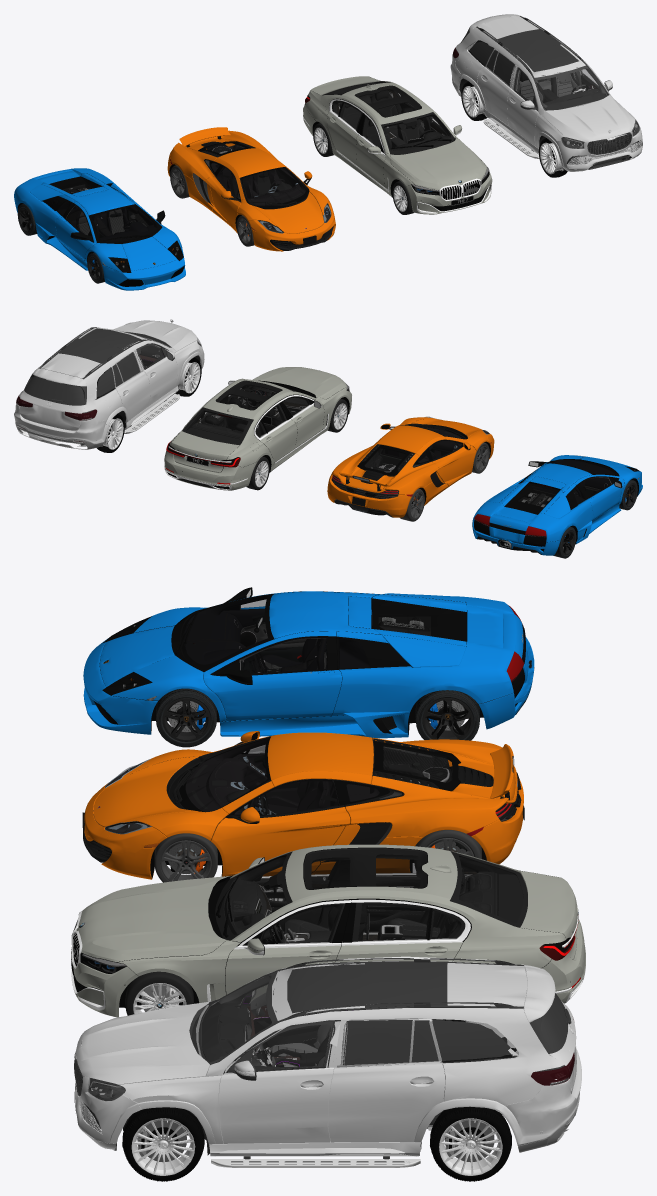
Rendered from cars_17.fbx.
3 views of the same model, one above another, from view 1: azimuth 30°, elevation 25°; view 2: azimuth 150°, elevation 25°; view 3: azimuth 270°, elevation 25° (orthographic). The views are drawn at different scales.
Visible parts, largest first — view 1: Body_gls_paint_001, Body_Kuzov_Main, Body_Car_Paint, Body_Mphong9SG1, SeeThrough_Winsows, Body_gls_carbonn_001, SeeThrough_gls_glass_1_043, SeeThrough_Glass, SeeThrough_Mphong1SG1, Body_gls_black_chrome_001, Body_Interior, Body_Salon_Mat (+25 smaller); view 2: Body_Kuzov_Main, Body_gls_paint_001, Body_Car_Paint, Body_Mphong9SG1, Body_gls_carbonn_001, SeeThrough_Winsows, Body_gls_paint_021, Body_Salon_Mat, Body_Mphong10SG1, SeeThrough_Glass, SeeThrough_Mphong1SG1, SeeThrough_D_glass (+26 smaller); view 3: Body_gls_paint_001, Body_Car_Paint, Body_Kuzov_Main, Body_Mphong9SG1, Body_gls_carbonn_001, SeeThrough_Winsows, SeeThrough_Glass, SeeThrough_Mphong1SG1, SeeThrough_gls_glass_1_043, Body_Salon_Mat, Body_Mphong2SG1, Body_Interior (+29 smaller).
Boxes of the visible parts, x1,y1,x2,y2 form: Body_gls_paint_001: (450, 16, 642, 171); Body_Kuzov_Main: (303, 76, 492, 214); Body_Car_Paint: (14, 168, 185, 290); Body_Mphong9SG1: (167, 127, 335, 251); SeeThrough_Winsows: (324, 81, 454, 154); Body_gls_carbonn_001: (468, 29, 578, 85); SeeThrough_gls_glass_1_043: (453, 55, 639, 148); SeeThrough_Glass: (55, 178, 182, 270); SeeThrough_Mphong1SG1: (170, 142, 330, 232); Body_gls_black_chrome_001: (453, 16, 640, 169); Body_Interior: (58, 201, 157, 241); Body_Salon_Mat: (322, 81, 454, 154); Body_Kuzov_Main: (164, 367, 351, 490); Body_gls_paint_001: (14, 320, 204, 444); Body_Car_Paint: (472, 455, 642, 555); Body_Mphong9SG1: (327, 417, 494, 517); Body_gls_carbonn_001: (24, 328, 140, 405); SeeThrough_Winsows: (182, 383, 310, 444); Body_gls_paint_021: (19, 368, 86, 430); Body_Salon_Mat: (182, 380, 310, 444); Body_Mphong10SG1: (331, 423, 475, 510); SeeThrough_Glass: (475, 460, 637, 536); SeeThrough_Mphong1SG1: (336, 417, 491, 512); SeeThrough_D_glass: (216, 381, 281, 409); Body_gls_paint_001: (75, 961, 581, 1156); Body_Car_Paint: (83, 591, 534, 738); Body_Kuzov_Main: (71, 844, 585, 1017); Body_Mphong9SG1: (84, 731, 523, 879); Body_gls_carbonn_001: (287, 962, 567, 1066); SeeThrough_Winsows: (215, 852, 527, 944); SeeThrough_Glass: (107, 596, 520, 693); SeeThrough_Mphong1SG1: (105, 739, 514, 847); SeeThrough_gls_glass_1_043: (88, 972, 568, 1100); Body_Salon_Mat: (215, 848, 527, 942); Body_Mphong2SG1: (93, 739, 449, 843); Body_Interior: (185, 595, 371, 674).
Bounding box in the file's own units: 12.65 × 1.85 × 5.25.
157 materials, 157 textured.
